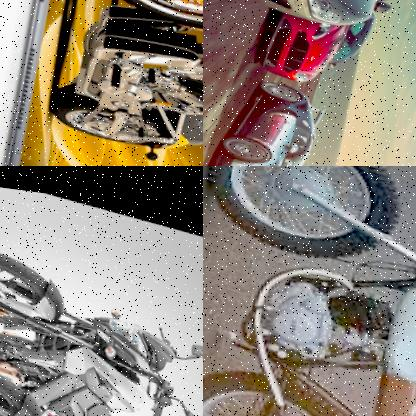bike: (203, 166, 416, 416), (0, 221, 203, 413), (54, 0, 203, 166), (0, 331, 203, 416)
car: (206, 60, 319, 166), (256, 0, 369, 92), (205, 0, 416, 46)
